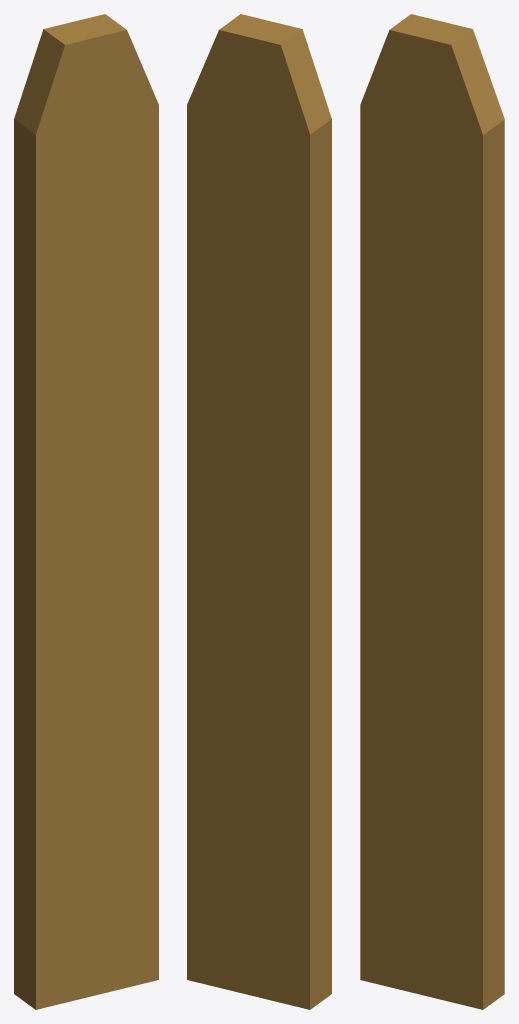
File: FencePlank.fbx
3 renders of one model, left to right at view 1: azimuth 30°, elevation 25°; view 2: azimuth 150°, elevation 25°; view 3: azimuth 330°, elevation 25°, orthographic.
Parts seen in each view (by area): view 1: FencePlank; view 2: FencePlank; view 3: FencePlank.
Part boxes in pixels (x1=…): FencePlank: x1=14, y1=14, x2=158, y2=1009; FencePlank: x1=187, y1=14, x2=331, y2=1009; FencePlank: x1=360, y1=14, x2=504, y2=1009.
Size of the model in its own units: 0.1099 by 0.8174 by 0.0336.
